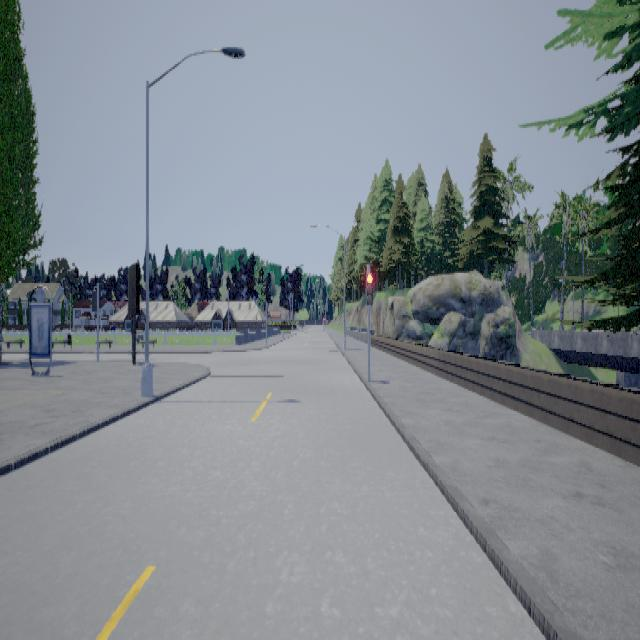red_light: (365, 266, 372, 310)
